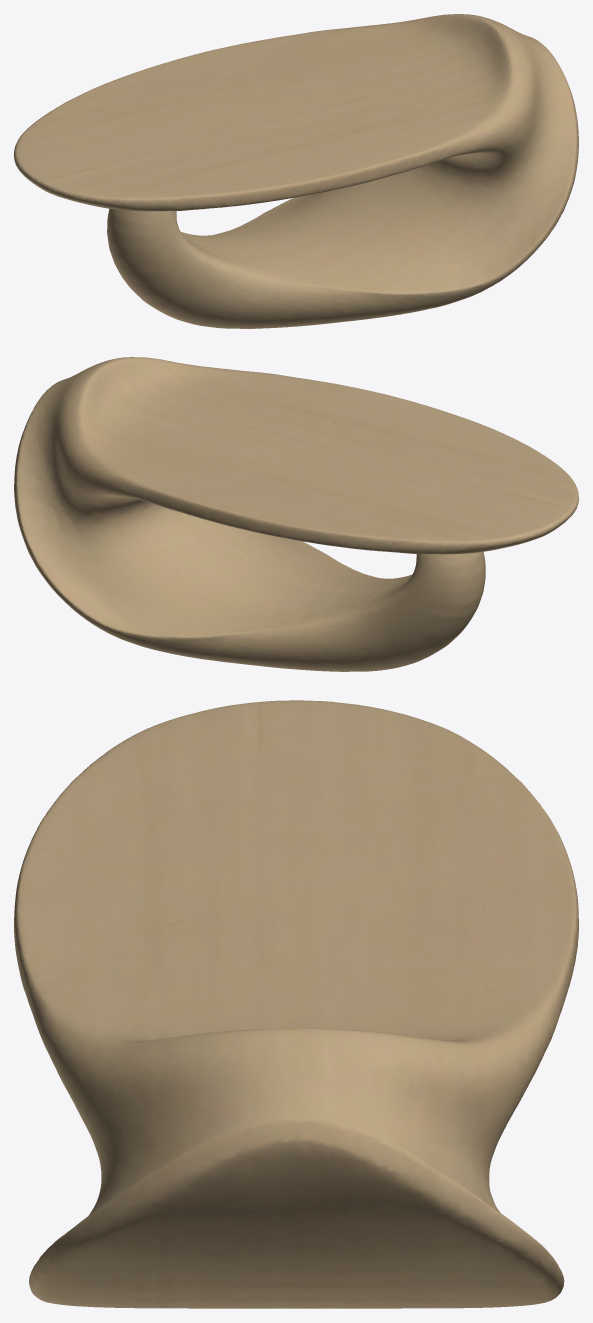
Rendered from coffee-table-pale-wood-sculptural.glb.
3 renders of one model, top to bottom at view 1: azimuth 30°, elevation 25°; view 2: azimuth 150°, elevation 25°; view 3: azimuth 270°, elevation 25°, orthographic. The views are drawn at different scales.
Parts seen in each view (by area): view 1: world; view 2: world; view 3: world.
Boxes of the visible parts, x1,y1,x2,y2 form: world: (14,14,578,328); world: (14,357,578,671); world: (14,700,578,1308).
Bounding box in the file's own units: 1 × 0.4336 × 0.5445.
Materials: 1 (1 with a texture image).
